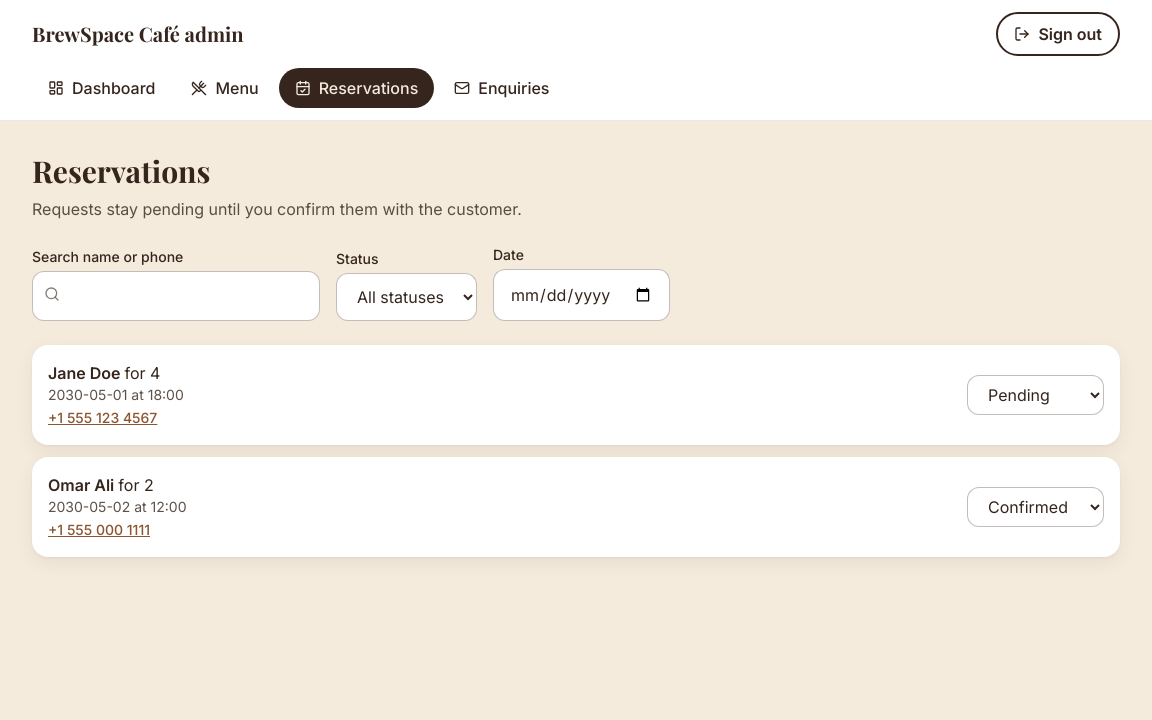
Test: admin reservations and enquiries › lists reservations and updates a status with PATCH
The image size is (1152, 720).
Select "Confirmed" in the dropdown named "Status for Jane Doe" in the row of "Jane Doe" at (1036, 395), box [967,375,1104,415]
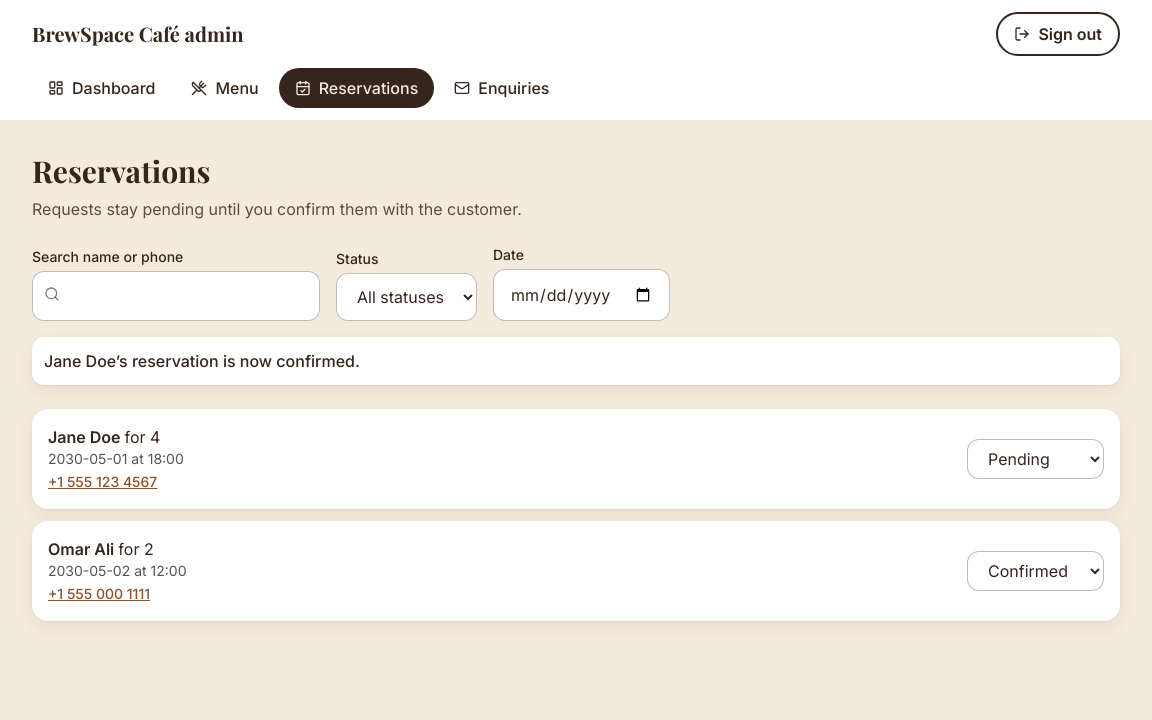
Expected: the message shows "Jane Doe’s reservation is now confirmed", [44,351,360,371]
